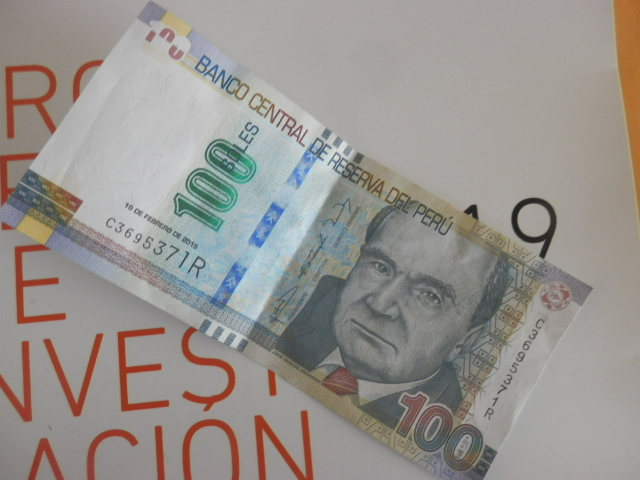B100: (15, 6, 602, 478)
